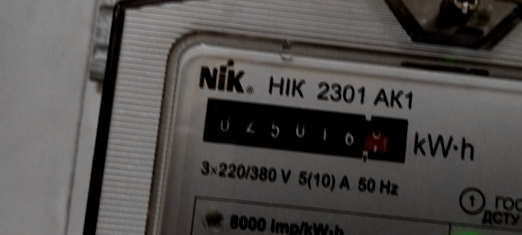0: (293, 114, 310, 139), (218, 110, 233, 133), (370, 118, 384, 139)
1: (318, 116, 332, 142), (370, 141, 379, 153)
2: (244, 110, 259, 134)
5: (268, 115, 282, 138)
6: (342, 122, 357, 148)
screen: (193, 85, 420, 171)
